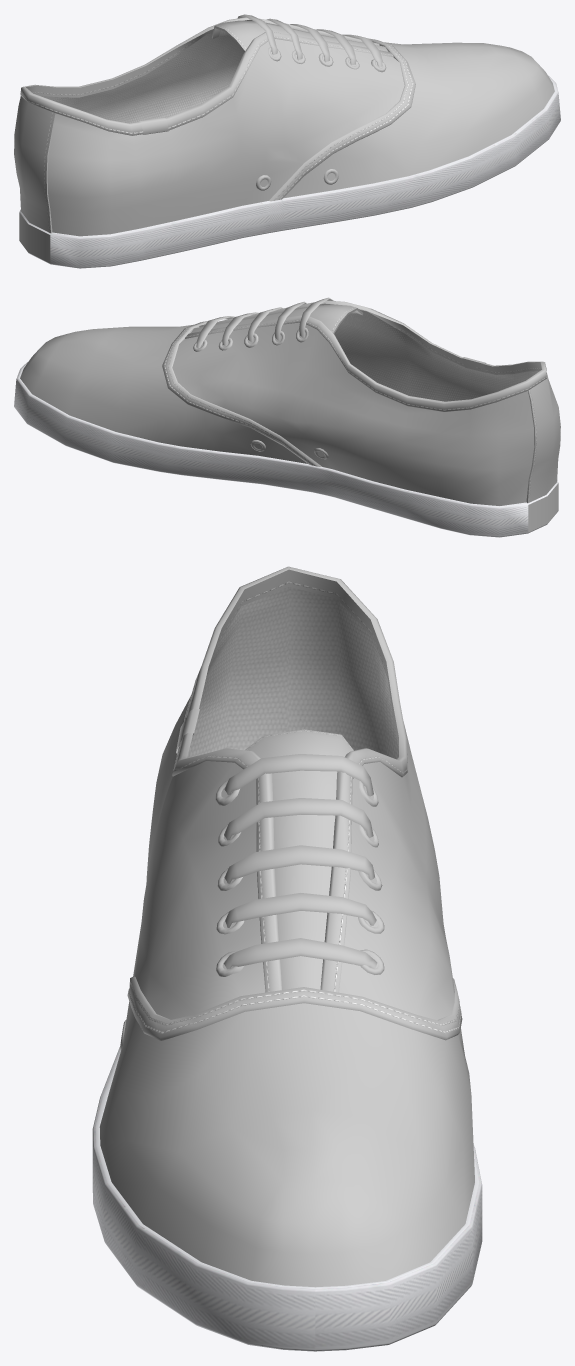
The model's file is kedssneaker.FBX.
3 renders of one model, top to bottom at view 1: azimuth 30°, elevation 25°; view 2: azimuth 150°, elevation 25°; view 3: azimuth 270°, elevation 25°, orthographic. The views are drawn at different scales.
Parts seen in each view (by area): view 1: sneaker_upper, sneaker_sole, sneaker_interior, sneaker_laces_rivets_tags, sneaker_stictches; view 2: sneaker_upper, sneaker_sole, sneaker_interior, sneaker_laces_rivets_tags, sneaker_stictches; view 3: sneaker_upper, sneaker_sole, sneaker_interior, sneaker_laces_rivets_tags, sneaker_stictches.
Boxes of the visible parts, box(x1,y1,x2,y2) form: sneaker_upper: box(14, 17, 554, 236); sneaker_sole: box(19, 75, 560, 268); sneaker_interior: box(37, 30, 244, 123); sneaker_laces_rivets_tags: box(19, 14, 386, 263); sneaker_stictches: box(14, 24, 413, 232); sneaker_upper: box(20, 300, 560, 505); sneaker_sole: box(14, 362, 558, 537); sneaker_interior: box(334, 310, 539, 401); sneaker_laces_rivets_tags: box(193, 297, 558, 532); sneaker_stictches: box(164, 307, 560, 502); sneaker_upper: box(99, 566, 474, 1287); sneaker_sole: box(92, 1046, 482, 1351); sneaker_interior: box(187, 587, 398, 759); sneaker_laces_rivets_tags: box(120, 708, 384, 1050); sneaker_stictches: box(128, 581, 461, 1033).
Size of the model in its own units: 0.2531 by 0.0785 by 0.0816.
